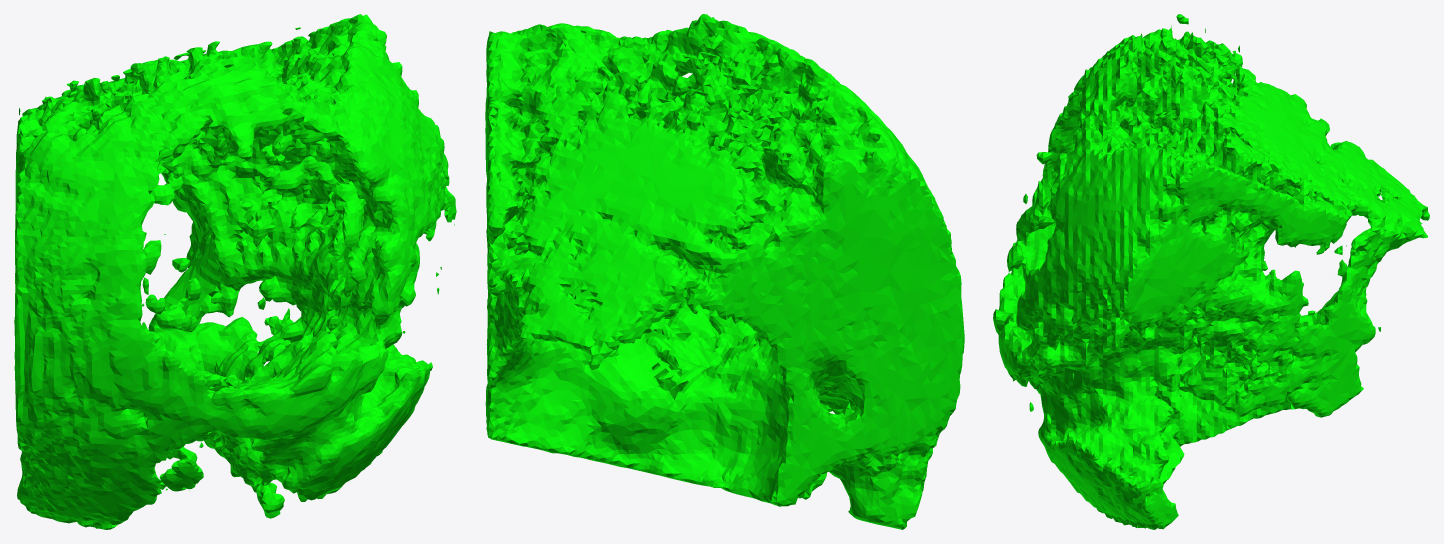
Rendered from B939XXXX-1_base_38.obj.
3 views of the same model, side by side, from view 1: azimuth 30°, elevation 25°; view 2: azimuth 150°, elevation 25°; view 3: azimuth 270°, elevation 25° (orthographic). The views are drawn at different scales.
Parts seen in each view (by area): view 1: 38_base; view 2: 38_base; view 3: 38_base.
Boxes of the visible parts, bbox=[...] form: 38_base: bbox=[14, 14, 456, 529]; 38_base: bbox=[485, 14, 964, 529]; 38_base: bbox=[993, 14, 1429, 529].
Size of the model in its own units: 220 by 219 by 204.
